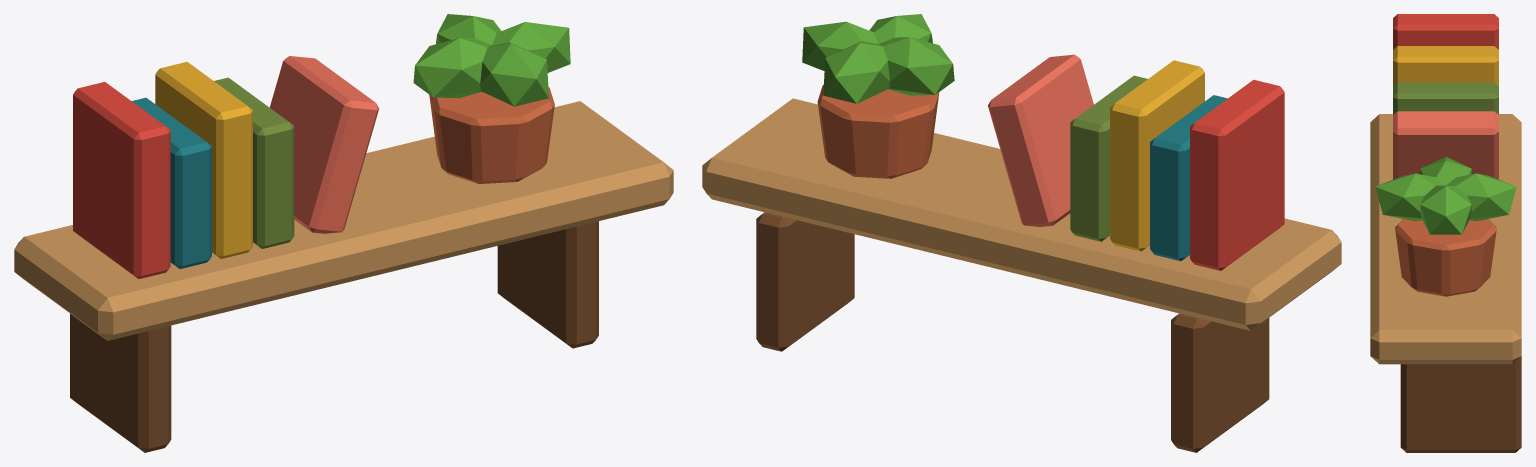
The model's file is wall_shelf_small.glb.
3 renders of one model, left to right at view 1: azimuth 30°, elevation 25°; view 2: azimuth 150°, elevation 25°; view 3: azimuth 270°, elevation 25°, orthographic. The views are drawn at different scales.
Parts seen in each view (by area): view 1: wall_shelf_small; view 2: wall_shelf_small; view 3: wall_shelf_small.
Part boxes in pixels (<box>): wall_shelf_small: <box>14,14,673,452</box>; wall_shelf_small: <box>702,14,1341,452</box>; wall_shelf_small: <box>1370,14,1521,452</box>.
Size of the model in its own units: 0.7 by 0.38 by 0.2.
